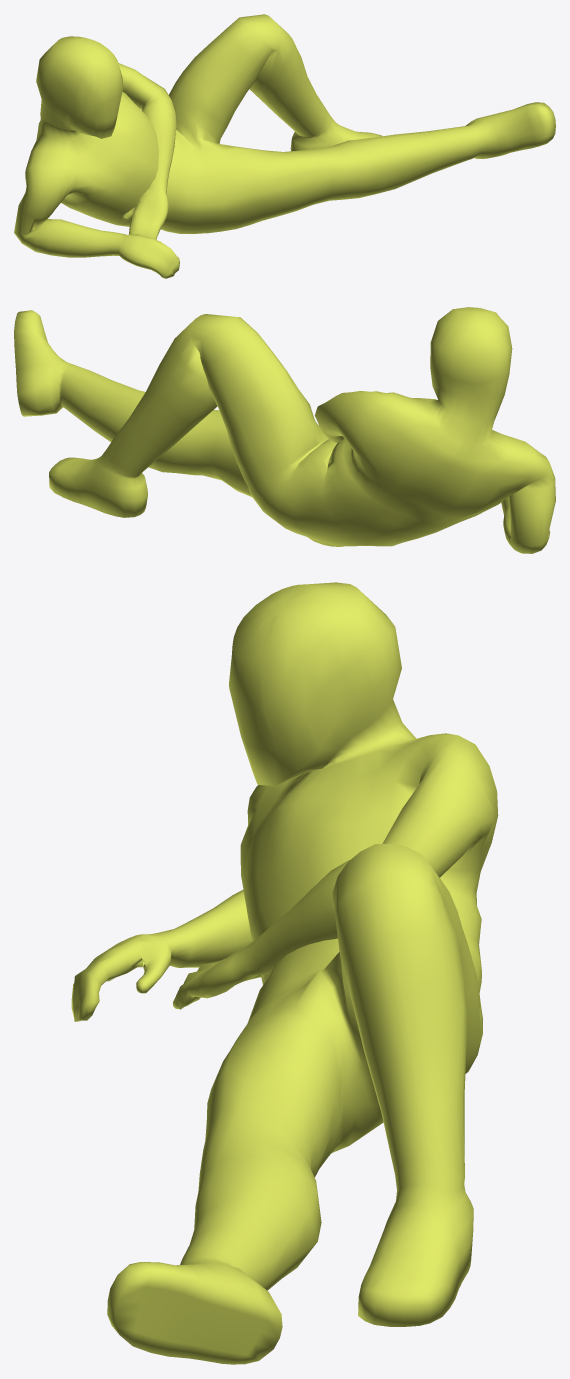
File: mannequin_1.fbx
3 views of the same model, one above another, from view 1: azimuth 30°, elevation 25°; view 2: azimuth 150°, elevation 25°; view 3: azimuth 270°, elevation 25° (orthographic). The views are drawn at different scales.
Parts seen in each view (by area): view 1: mannequin_1; view 2: mannequin_1; view 3: mannequin_1.
Boxes of the visible parts, x1=… form: mannequin_1: x1=14, y1=14, x2=555, y2=278; mannequin_1: x1=14, y1=307, x2=555, y2=553; mannequin_1: x1=71, y1=582, x2=498, y2=1364.
Bounding box in the file's own units: 12.39 × 5.31 × 4.66.
